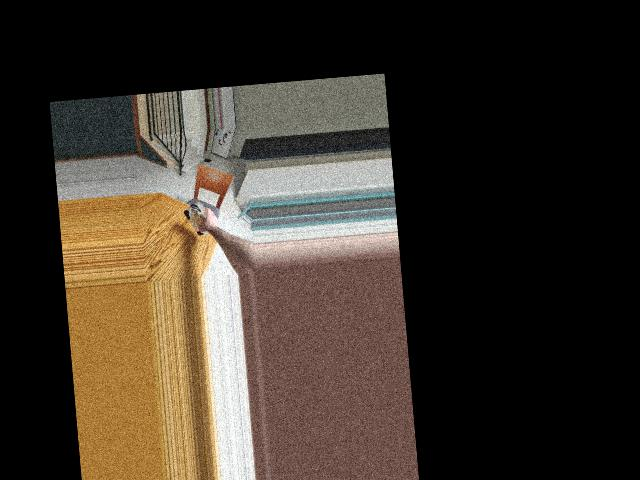cheese: (183, 200, 218, 239)
